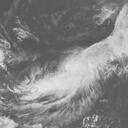cyclone: (41, 56, 98, 96)
